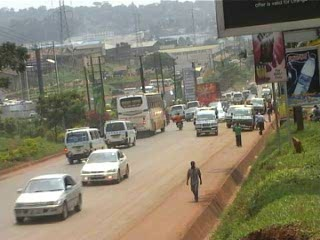Car: (13, 172, 84, 226), (78, 146, 130, 188), (213, 105, 225, 121)
Motorcycle: (172, 111, 186, 130)
